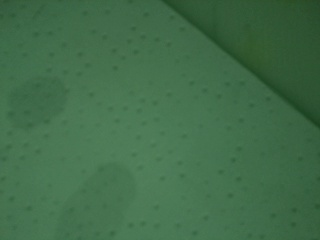Water_detected: (78, 175, 136, 227), (19, 83, 58, 133)
